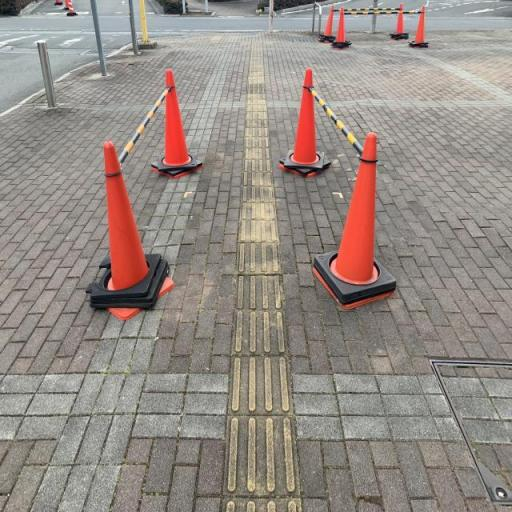line: (226, 411, 305, 497), (229, 352, 296, 417), (231, 309, 290, 356), (235, 271, 288, 311)
